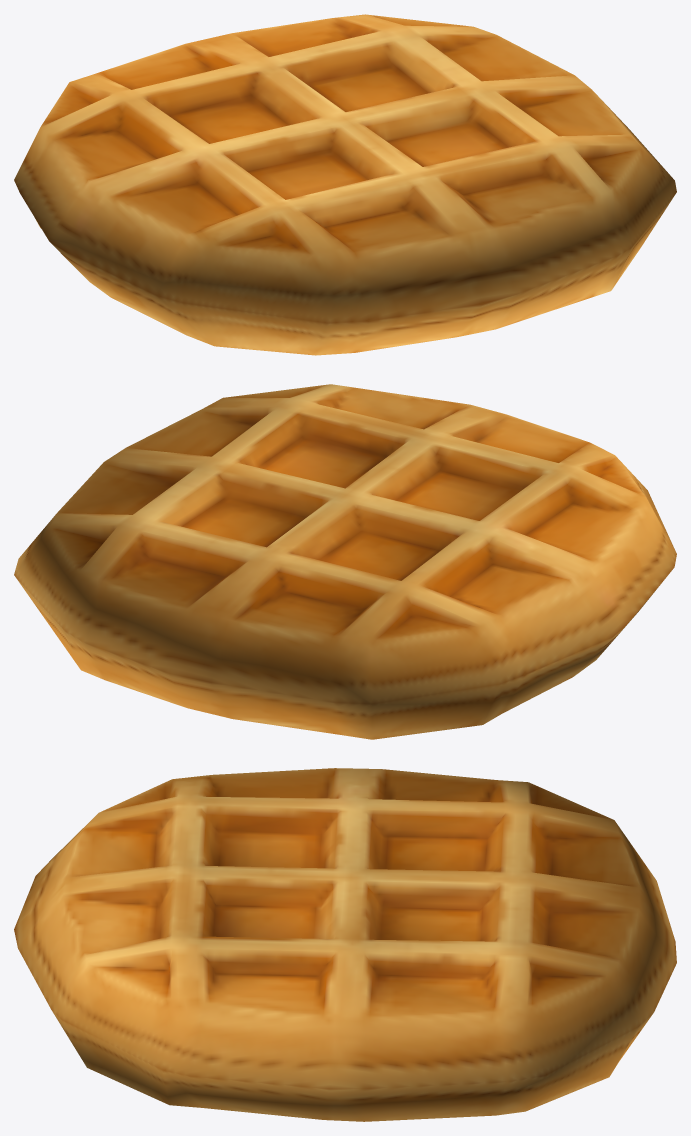
File: Waffle.FBX
3 views of the same model, one above another, from view 1: azimuth 30°, elevation 25°; view 2: azimuth 150°, elevation 25°; view 3: azimuth 270°, elevation 25° (orthographic). The views are drawn at different scales.
Parts seen in each view (by area): view 1: Waffle; view 2: Waffle; view 3: Waffle.
Part boxes in pixels (<box>): Waffle: <box>14,14,676,355</box>; Waffle: <box>14,384,676,739</box>; Waffle: <box>14,768,676,1121</box>.
Size of the model in its own units: 185 by 44.47 by 182.
